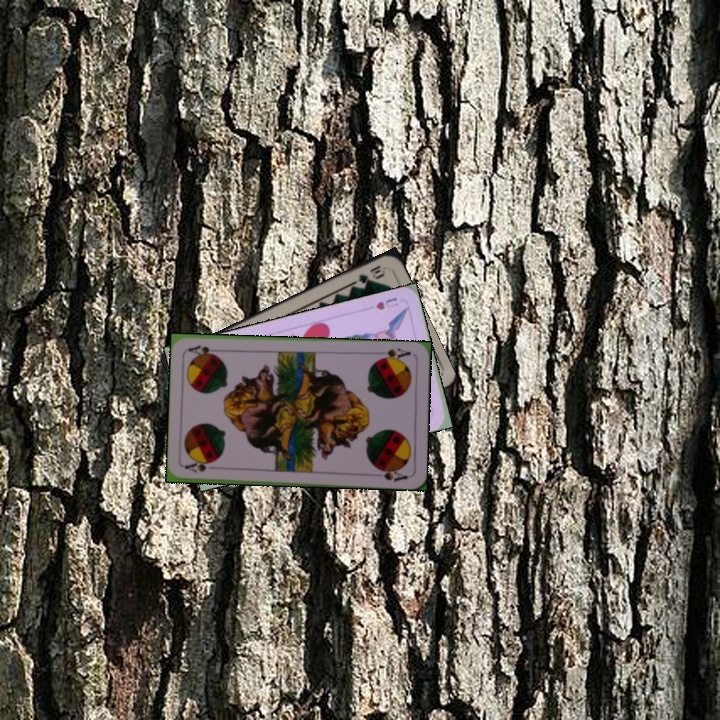G10: (354, 261, 387, 287)
HU: (372, 293, 401, 313)
SA: (374, 344, 413, 364), (181, 458, 215, 475)
